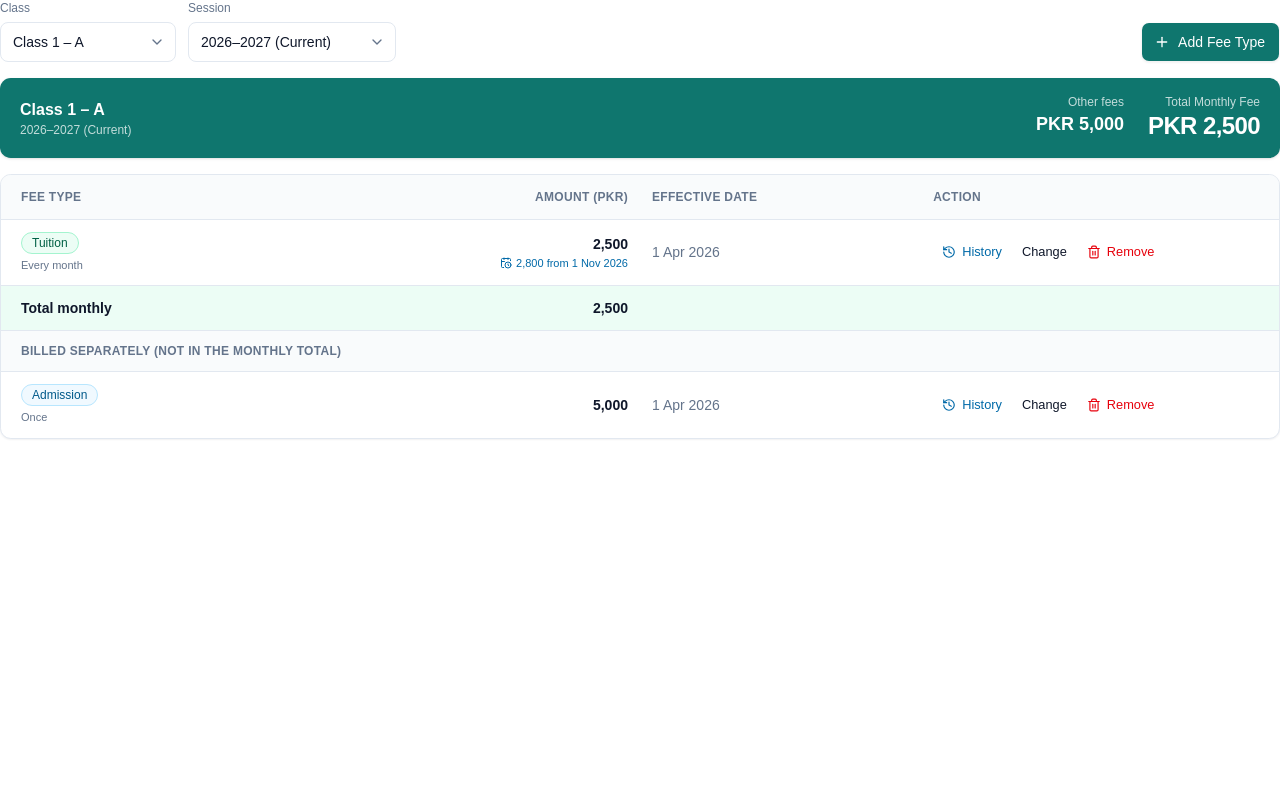
Scenario: FeeStructurePage › opens history with the latest amount marked Current
Expected: the text "PKR 2,500" is shown, [1148,110,1260,142]
Click the button with aria-label "History Tuition" at point(972, 252), box [933,236,1011,268]
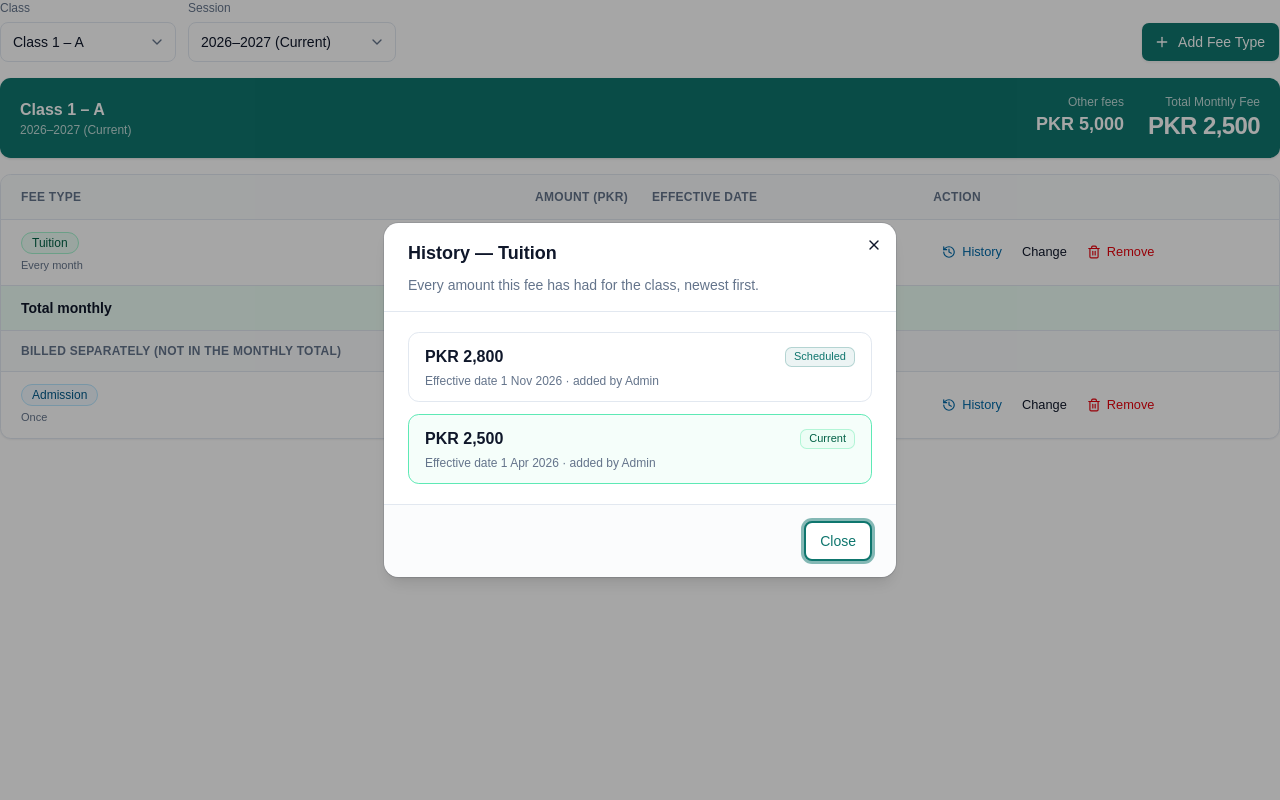
Expected: the heading "History — Tuition" is shown, [408,243,557,263]
Expected: the text "Current" is shown, [809,432,846,446]
Expected: the text "Effective date 1 Nov 2026 · added by Admin" is shown 2 times, [425,374,659,388]; [425,456,656,470]
